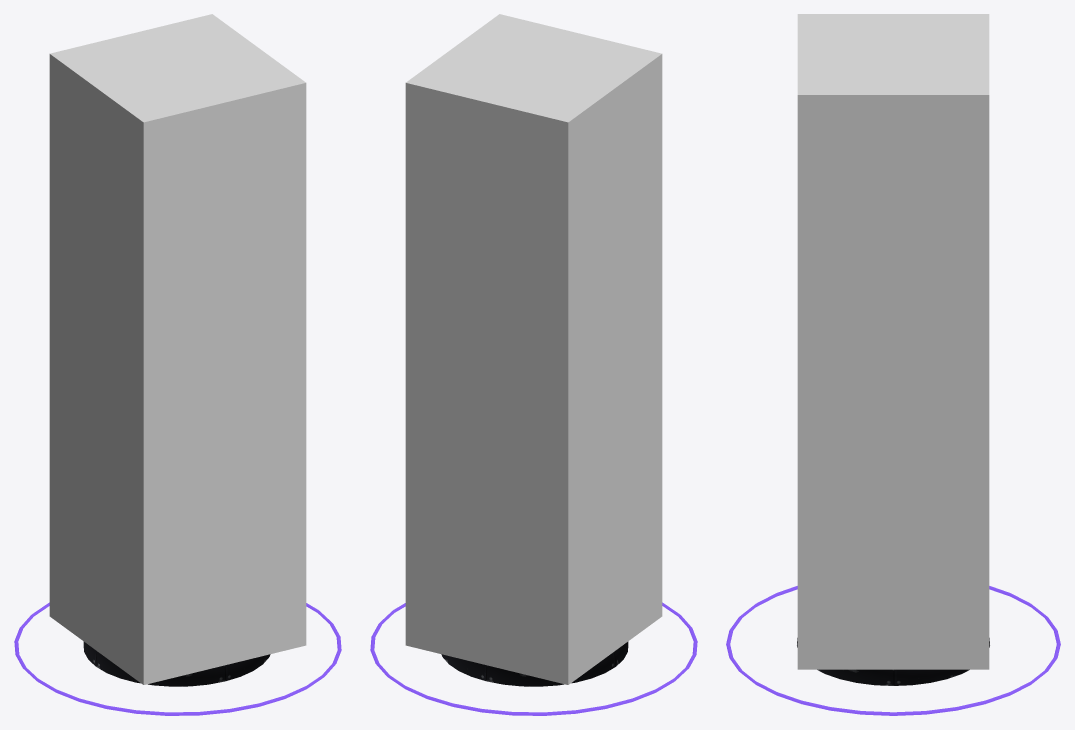
Rendered from Pet_JellyfishTank.001.gltf.
3 renders of one model, left to right at view 1: azimuth 30°, elevation 25°; view 2: azimuth 150°, elevation 25°; view 3: azimuth 270°, elevation 25°, orthographic. The views are drawn at different scales.
Parts seen in each view (by area): view 1: Pet_JellyfishTank.001_COL, Pet_JellyfishTank.001; view 2: Pet_JellyfishTank.001_COL, Pet_JellyfishTank.001; view 3: Pet_JellyfishTank.001_COL, Pet_JellyfishTank.001.
Boxes of the visible parts, left/top/right/bottom form: Pet_JellyfishTank.001_COL: left=49, top=14, right=306, bottom=684; Pet_JellyfishTank.001: left=14, top=602, right=341, bottom=715; Pet_JellyfishTank.001_COL: left=405, top=14, right=662, bottom=684; Pet_JellyfishTank.001: left=370, top=602, right=697, bottom=715; Pet_JellyfishTank.001_COL: left=797, top=14, right=989, bottom=669; Pet_JellyfishTank.001: left=726, top=586, right=1060, bottom=715.
Bounding box in the file's own units: 1.32 × 2.57 × 1.32.
Materials: 9 (1 with a texture image).
